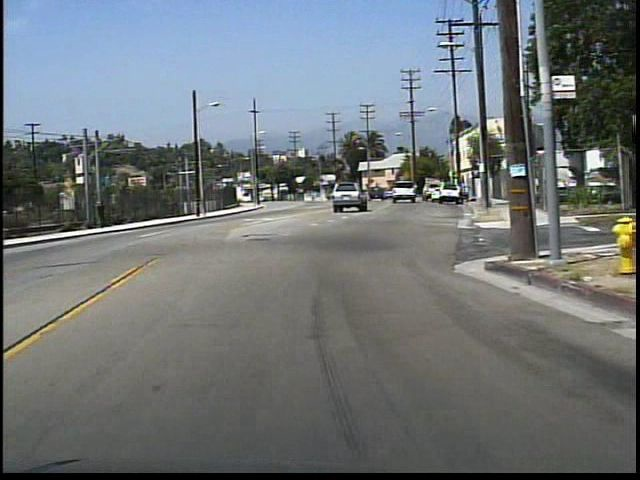person: (98, 197, 112, 230)
